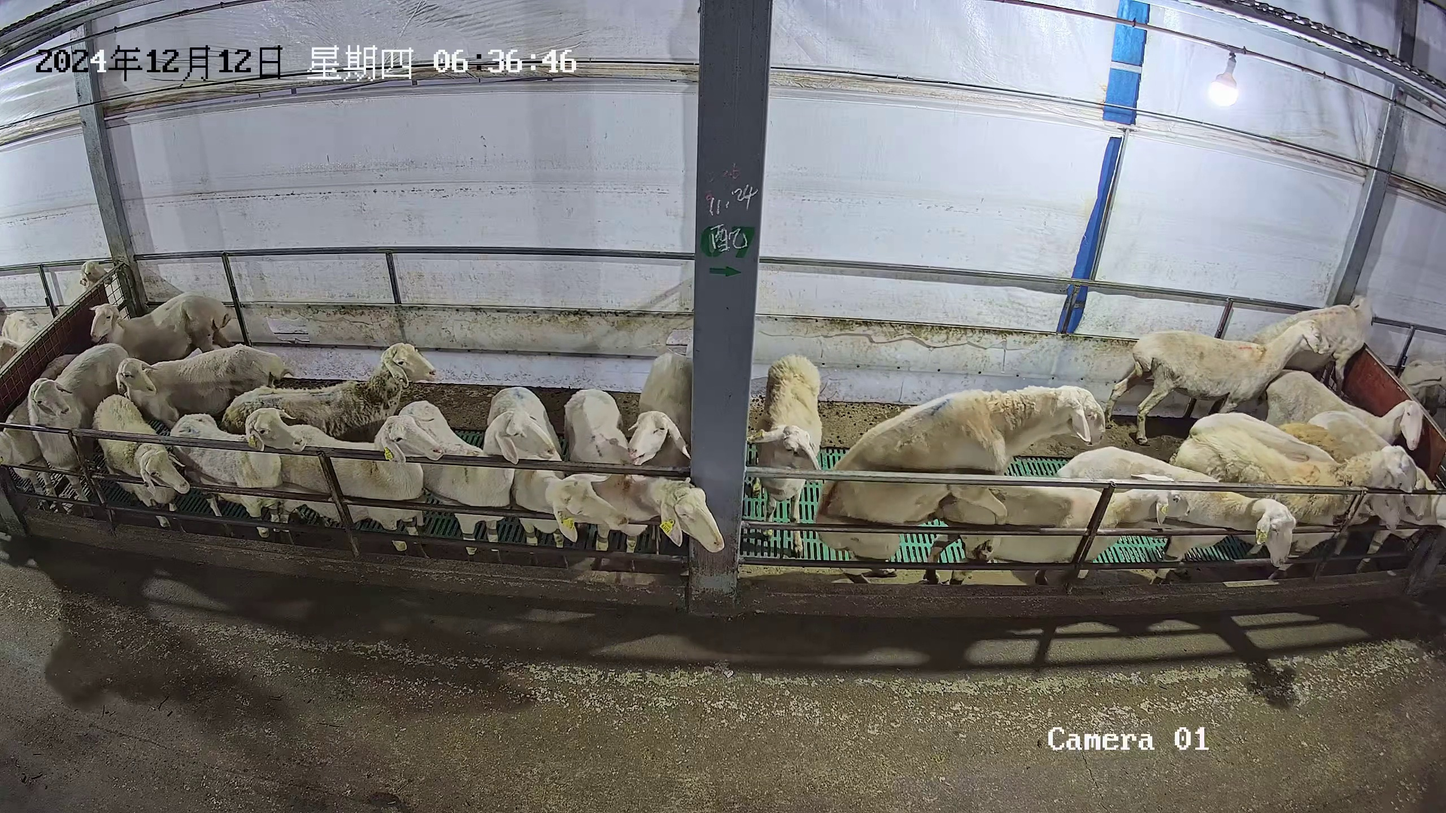Smounting: (810, 383, 1194, 592)
mounted: (920, 464, 1191, 588)
